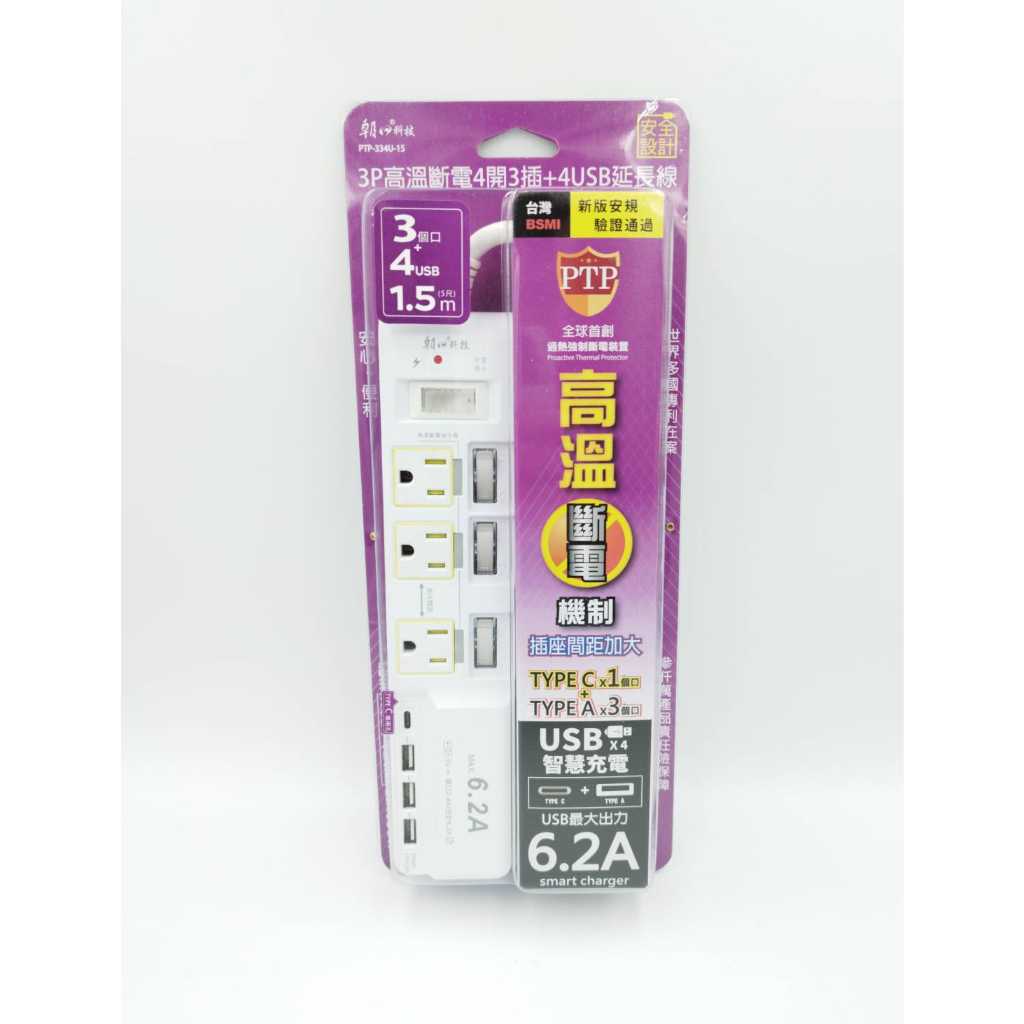socket: (378, 212, 514, 884)
